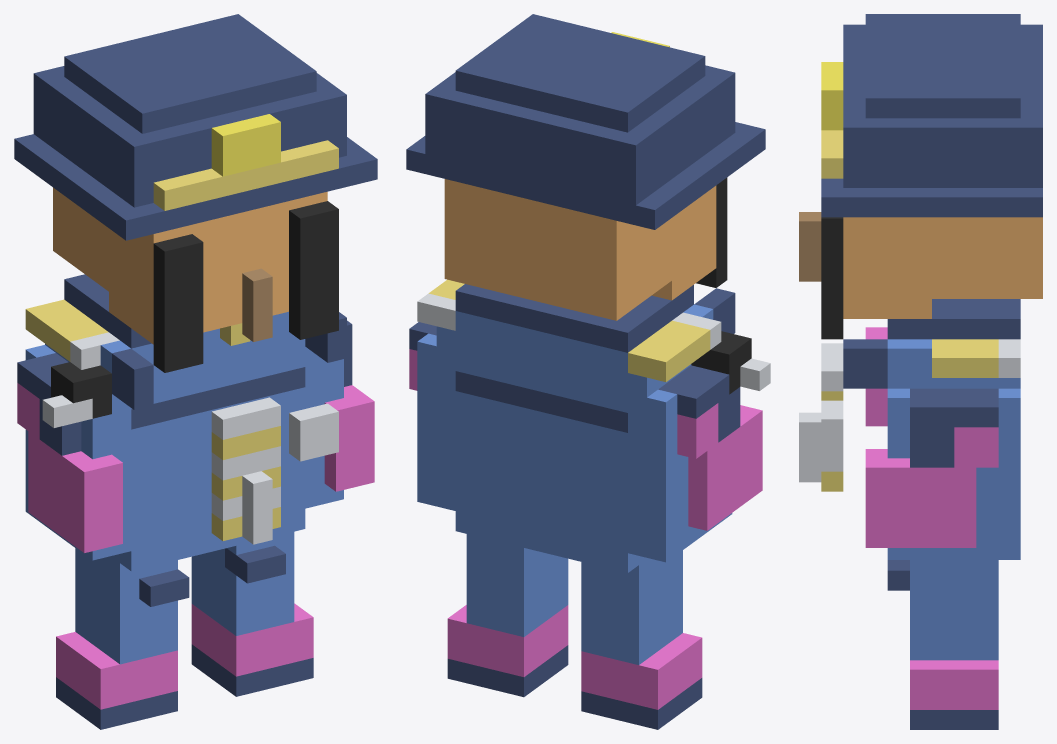
Rendered from PoliceChibi.glb.
3 renders of one model, left to right at view 1: azimuth 30°, elevation 25°; view 2: azimuth 150°, elevation 25°; view 3: azimuth 270°, elevation 25°, orthographic.
Visible parts, largest first — view 1: CHR_VOX_navy, CHR_VOX_blue, CHR_VOX_magenta, CHR_VOX_orange, CHR_VOX_black, CHR_VOX_gold, CHR_VOX_silver, CHR_VOX_yellow, CHR_VOX_brown; view 2: CHR_VOX_navy, CHR_VOX_blue, CHR_VOX_orange, CHR_VOX_magenta, CHR_VOX_gold, CHR_VOX_black, CHR_VOX_silver; view 3: CHR_VOX_navy, CHR_VOX_blue, CHR_VOX_orange, CHR_VOX_magenta, CHR_VOX_silver, CHR_VOX_gold, CHR_VOX_black, CHR_VOX_brown, CHR_VOX_yellow.
Boxes of the visible parts, x1,y1,x2,y2 form: CHR_VOX_navy: (14,14,377,729); CHR_VOX_blue: (25,311,343,664); CHR_VOX_magenta: (17,383,374,709); CHR_VOX_orange: (53,187,327,344); CHR_VOX_black: (51,201,338,418); CHR_VOX_gold: (25,140,338,540); CHR_VOX_silver: (42,332,338,544); CHR_VOX_yellow: (211,114,280,176); CHR_VOX_brown: (242,268,272,341); CHR_VOX_navy: (406,14,765,729); CHR_VOX_blue: (417,304,732,664); CHR_VOX_orange: (444,179,716,320); CHR_VOX_magenta: (409,349,762,709); CHR_VOX_gold: (428,279,710,381); CHR_VOX_black: (691,177,751,394); CHR_VOX_silver: (417,293,770,390); CHR_VOX_navy: (821,14,1042,729); CHR_VOX_blue: (887,339,1020,660); CHR_VOX_orange: (843,217,1042,318); CHR_VOX_magenta: (865,327,998,709); CHR_VOX_silver: (799,339,1020,482); CHR_VOX_gold: (821,130,998,491); CHR_VOX_black: (821,217,843,339); CHR_VOX_brown: (799,212,821,281); CHR_VOX_yellow: (821,62,843,130).
Bounding box in the file's own units: 0.672 × 1.3 × 0.462.
